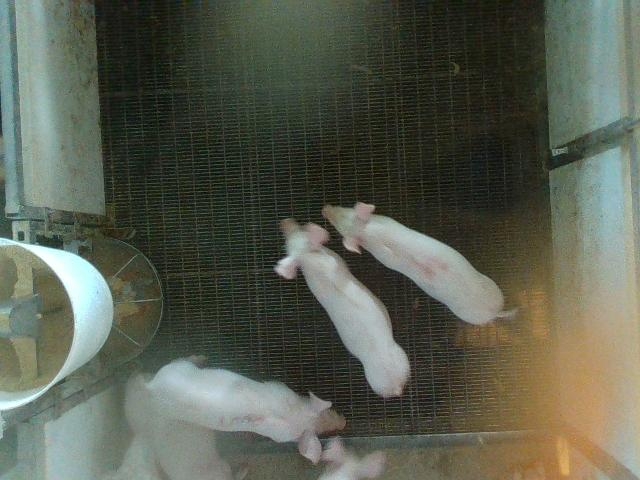pig-3: (148, 356, 345, 463)
pig-4: (324, 202, 515, 324)
